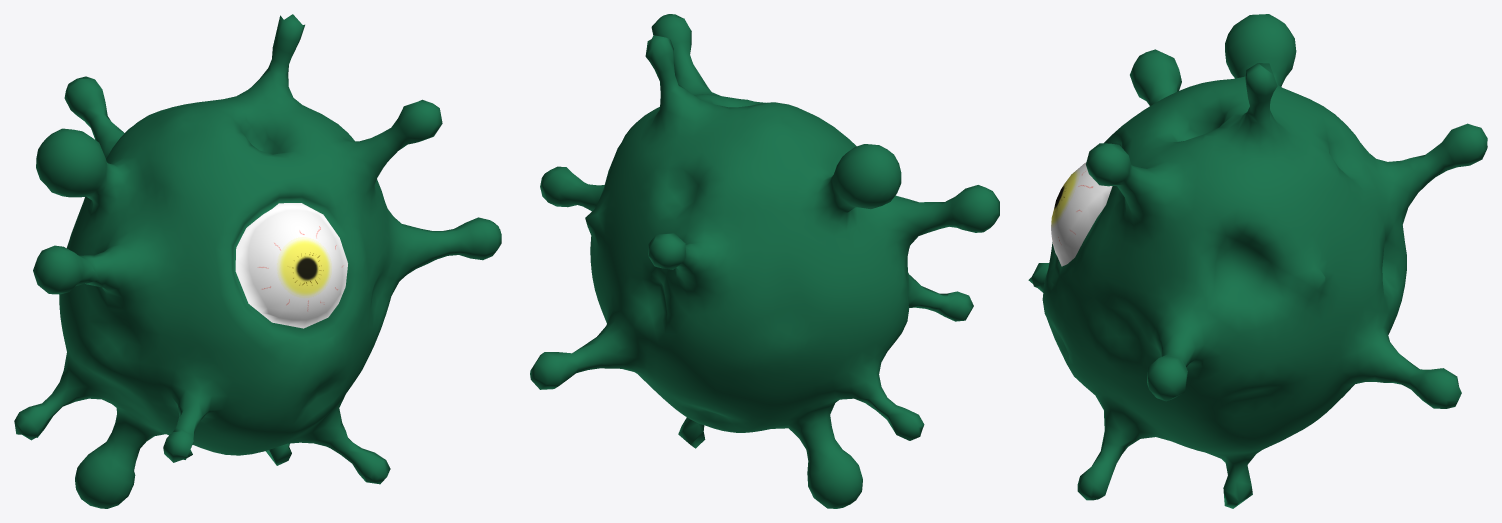
Rendered from bacteria.fbx.
The picture shows the model from 3 angles, left to right: view 1: azimuth 30°, elevation 25°; view 2: azimuth 150°, elevation 25°; view 3: azimuth 270°, elevation 25°; orthographic projection. The views are drawn at different scales.
Parts seen in each view (by area): view 1: bacteria.002; view 2: bacteria.002; view 3: bacteria.002.
Boxes of the visible parts, <box> form: bacteria.002: <box>14,14,501,508</box>; bacteria.002: <box>530,14,999,508</box>; bacteria.002: <box>1028,14,1487,508</box>.
Bounding box in the file's own units: 265 × 240 × 213.
Materials: 2 (1 with a texture image).
